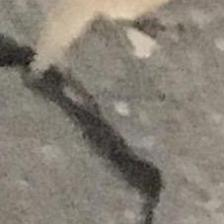Crack: (0, 4, 219, 224)
